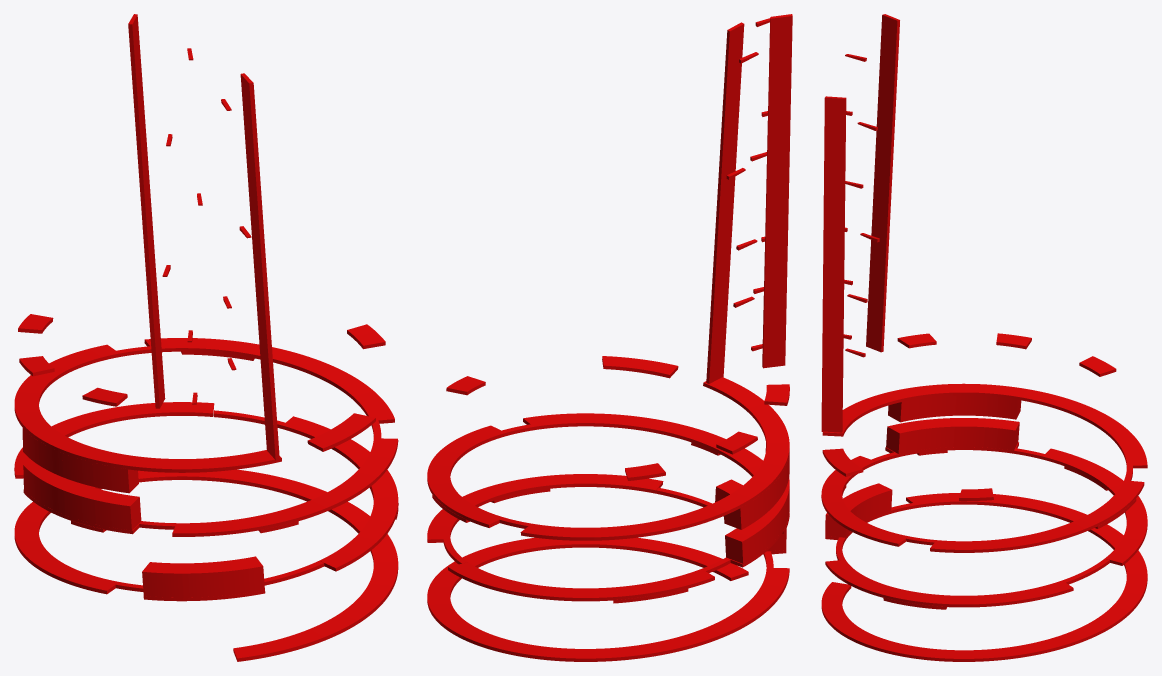
Rendered from level3Collision.fbx.
3 views of the same model, side by side, from view 1: azimuth 30°, elevation 25°; view 2: azimuth 150°, elevation 25°; view 3: azimuth 270°, elevation 25° (orthographic). The views are drawn at different scales.
Visible parts, largest first — view 1: MiddleFloorCollision569; view 2: MiddleFloorCollision569; view 3: MiddleFloorCollision569.
Boxes of the visible parts, x1=… form: MiddleFloorCollision569: x1=14, y1=14, x2=398, y2=661; MiddleFloorCollision569: x1=427, y1=14, x2=792, y2=661; MiddleFloorCollision569: x1=821, y1=14, x2=1147, y2=661.
Bounding box in the file's own units: 10630 × 19375 × 10628.
